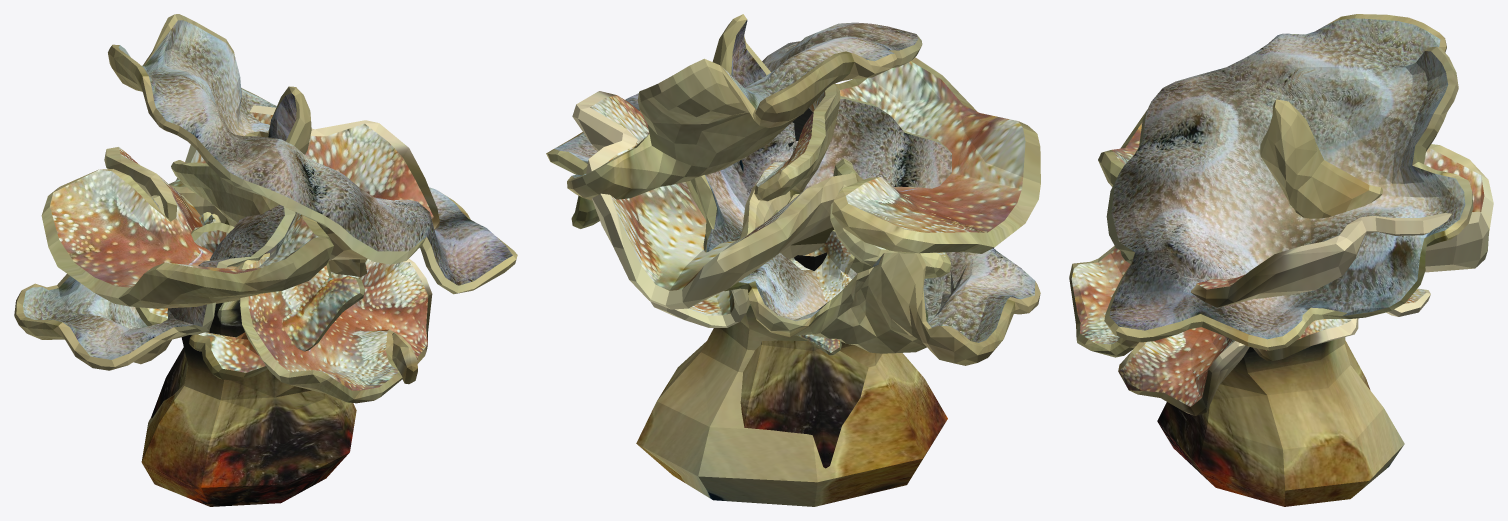
The model's file is leather-corals.glb.
The picture shows the model from 3 angles, left to right: view 1: azimuth 30°, elevation 25°; view 2: azimuth 150°, elevation 25°; view 3: azimuth 270°, elevation 25°; orthographic projection. The views are drawn at different scales.
Visible parts, largest first — view 1: leather1, leather3, leather0, leather2; view 2: leather1, leather3, leather0, leather2; view 3: leather0, leather1, leather3, leather2.
Boxes of the visible parts, left/top/right/bottom form: leather1: left=14, top=86, right=432, bottom=506; leather3: left=41, top=105, right=439, bottom=417; leather0: left=108, top=14, right=517, bottom=294; leather2: left=135, top=160, right=367, bottom=380; leather1: left=636, top=14, right=1040, bottom=506; leather3: left=572, top=57, right=1040, bottom=468; leather0: left=546, top=22, right=922, bottom=228; leather2: left=650, top=83, right=950, bottom=355; leather0: left=1104, top=14, right=1473, bottom=350; leather1: left=1069, top=99, right=1404, bottom=506; leather3: left=1098, top=110, right=1493, bottom=389; leather2: left=1120, top=250, right=1430, bottom=360.
Size of the model in its own units: 0.6881 by 0.659 by 0.5922.
Materials: 3 (3 with a texture image).
